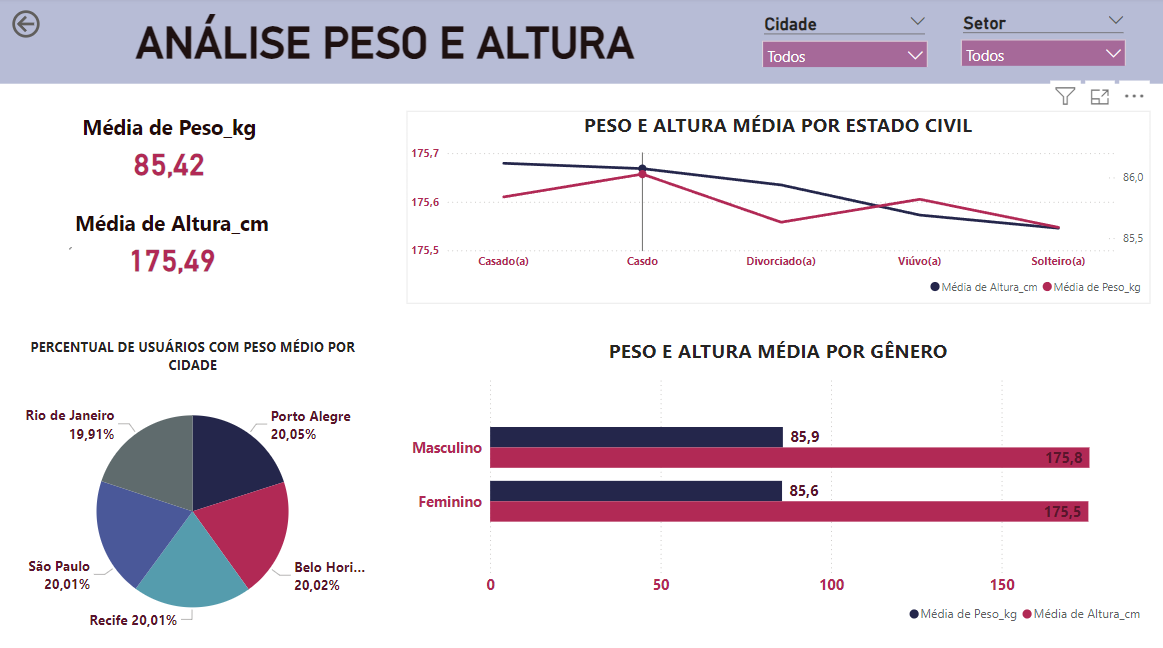

Layout of this report page (visuals, bound fields, positions):
{"tool":"powerbi","page":{"name":"Análise Peso e Altura","canvas":[1280,720],"ordinal":2},"visuals":[{"type":"textbox","box":[0,0,1280.3,95.1],"z":0},{"type":"cardVisual","fields":{"Data":["Avg(Sheet1.Peso_kg)"]},"box":[40,110,294.4,105.7],"z":1000},{"type":"slicer","fields":{"Values":["Sheet1.Cidade"]},"box":[827.8,13.5,201.9,63],"z":2000},{"type":"actionButton","box":[10,10,100,40],"z":3000},{"type":"slicer","fields":{"Values":["Sheet1.Setor"]},"box":[1045.2,12.6,201.5,63],"z":4000},{"type":"clusteredBarChart","title":"PESO E ALTURA MÉDIA POR GÊNERO","fields":{"Category":["Sheet1.Sexo"],"Y":["Avg(Sheet1.Peso_kg)","Avg(Sheet1.Altura_cm)"]},"box":[447.2,372.9,815.9,322.9],"z":6000},{"type":"lineChart","title":"PESO E ALTURA MÉDIA POR ESTADO CIVIL","fields":{"Category":["Sheet1.Estado_Civil"],"Y":["Avg(Sheet1.Altura_cm)"],"Y2":["Avg(Sheet1.Peso_kg)"]},"box":[447.2,124.3,815.9,211.5],"z":7000},{"type":"pieChart","title":"PERCENTUAL DE USUÁRIOS COM PESO MÉDIO POR CIDADE","fields":{"Y":["Avg(Sheet1.Peso_kg)"],"Category":["Sheet1.Cidade"]},"box":[22.9,372.9,378.7,347.2],"z":7001},{"type":"cardVisual","fields":{"Data":["Avg(Sheet1.Altura_cm)"]},"box":[35.7,215.8,302.9,94.3],"z":7002}]}

Visuals, with their boxes in screenshot pixels (x1, y1, x2, y2), scaled from the page's 1280x720 canvas onto the 1163x648 screenshot:
textbox: BBox(0, 0, 1162, 86)
cardVisual - Avg(Sheet1.Peso_kg): BBox(36, 99, 304, 194)
slicer - Sheet1.Cidade: BBox(752, 12, 936, 69)
actionButton: BBox(9, 9, 100, 45)
slicer - Sheet1.Setor: BBox(950, 11, 1133, 68)
"PESO E ALTURA MÉDIA POR GÊNERO" clusteredBarChart: BBox(406, 336, 1148, 626)
"PESO E ALTURA MÉDIA POR ESTADO CIVIL" lineChart: BBox(406, 112, 1148, 302)
"PERCENTUAL DE USUÁRIOS COM PESO MÉDIO POR CIDADE" pieChart: BBox(21, 336, 365, 647)
cardVisual - Avg(Sheet1.Altura_cm): BBox(32, 194, 308, 279)
